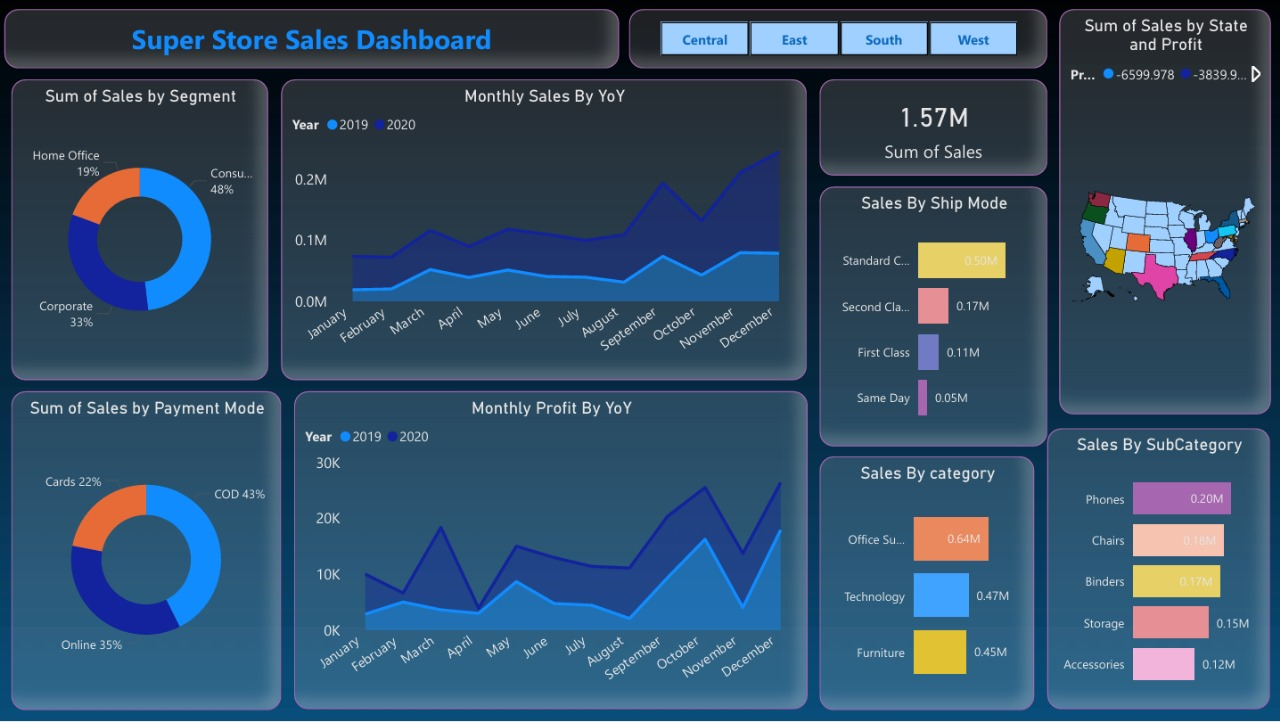

This screenshot's page, from the dashboard's own definition file:
{"tool":"powerbi","page":{"name":"Page 1","canvas":[1280,720],"ordinal":0},"visuals":[{"type":"clusteredBarChart","title":"Sales By category","fields":{"Category":["Sheet1.Category"],"Y":["Sum(Sheet1.Sales)"]},"box":[820,455.7,214.3,252.9],"z":0},{"type":"clusteredBarChart","title":"Sales By SubCategory","fields":{"Category":["Sheet1.Sub-Category"],"Y":["Sum(Sheet1.Sales)"]},"box":[1047,428.1,222.3,279.9],"z":1000},{"type":"clusteredBarChart","title":"Sales By Ship Mode","fields":{"Category":["Sheet1.Ship Mode"],"Y":["Sum(Sheet1.Sales)"]},"box":[820,187.1,227.1,258.6],"z":2000},{"type":"stackedAreaChart","title":"Monthly Sales By YoY","fields":{"Category":["Sheet1.Order Date.Variation.Date Hierarchy.Month","Sheet1.Order Date.Variation.Date Hierarchy.Day"],"Y":["Sum(Sheet1.Sales)"],"Series":["Sheet1.Order Date.Variation.Date Hierarchy.Year"]},"box":[282.9,80,524.3,300],"z":3000},{"type":"stackedAreaChart","title":"Monthly Profit By YoY","fields":{"Category":["Sheet1.Order Date.Variation.Date Hierarchy.Month","Sheet1.Order Date.Variation.Date Hierarchy.Day"],"Series":["Sheet1.Order Date.Variation.Date Hierarchy.Year"],"Y":["Sum(Sheet1.Profit)"]},"box":[296.4,391.1,511.8,317],"z":4000},{"type":"donutChart","fields":{"Category":["Sheet1.Segment"],"Y":["Sum(Sheet1.Sales)"]},"box":[14.3,80,255.7,300],"z":5001},{"type":"donutChart","fields":{"Category":["Sheet1.Payment Mode"],"Y":["Sum(Sheet1.Sales)"]},"box":[14.3,391.4,268.6,317.1],"z":5002},{"type":"slicer","fields":{"Values":["Sheet1.Region"]},"box":[630,10,417.1,58.6],"z":5003},{"type":"shapeMap","fields":{"Category":["Sheet1.State"],"Value":["Sum(Sheet1.Sales)"],"Series":["Sheet1.Profit"]},"box":[1058.6,10,211.4,404.3],"z":5004},{"type":"textbox","box":[7.1,10,612.9,58.6],"z":5005},{"type":"card","fields":{"Values":["Sum(Sheet1.Sales)"]},"box":[820,80,227.1,95.7],"z":5006}]}

Visuals, with their boxes in screenshot pixels (x1, y1, x2, y2), scaled from the page's 1280x720 canvas onto the 1280x722 screenshot:
"Sales By category" clusteredBarChart: {"left": 820, "top": 457, "right": 1034, "bottom": 711}
"Sales By SubCategory" clusteredBarChart: {"left": 1047, "top": 429, "right": 1269, "bottom": 710}
"Sales By Ship Mode" clusteredBarChart: {"left": 820, "top": 188, "right": 1047, "bottom": 447}
"Monthly Sales By YoY" stackedAreaChart: {"left": 283, "top": 80, "right": 807, "bottom": 381}
"Monthly Profit By YoY" stackedAreaChart: {"left": 296, "top": 392, "right": 808, "bottom": 710}
donutChart - Sheet1.Segment x Sum(Sheet1.Sales): {"left": 14, "top": 80, "right": 270, "bottom": 381}
donutChart - Sheet1.Payment Mode x Sum(Sheet1.Sales): {"left": 14, "top": 392, "right": 283, "bottom": 710}
slicer - Sheet1.Region: {"left": 630, "top": 10, "right": 1047, "bottom": 69}
shapeMap - Sheet1.State x Sum(Sheet1.Sales): {"left": 1059, "top": 10, "right": 1270, "bottom": 415}
textbox: {"left": 7, "top": 10, "right": 620, "bottom": 69}
card - Sum(Sheet1.Sales): {"left": 820, "top": 80, "right": 1047, "bottom": 176}
